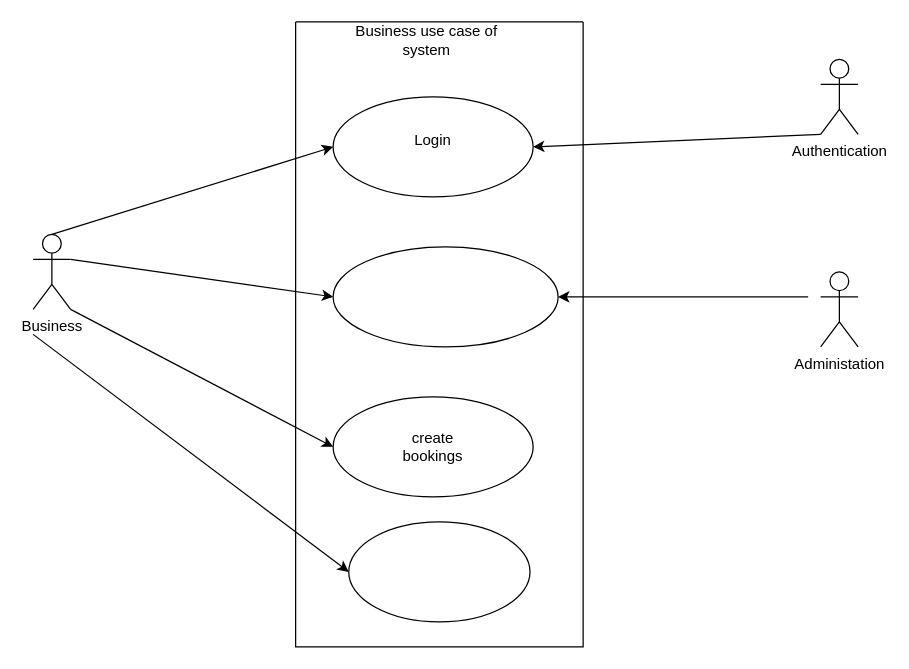
Some shapes in this 909 by 669 pixel diagram are drawn without their labels. The shapes that lost their labels are listed below. From the top down, each one's centre as x and y in pixels, then its label:
At [445,296]: "Application to be on site".
At [439,571]: "create invoices".
